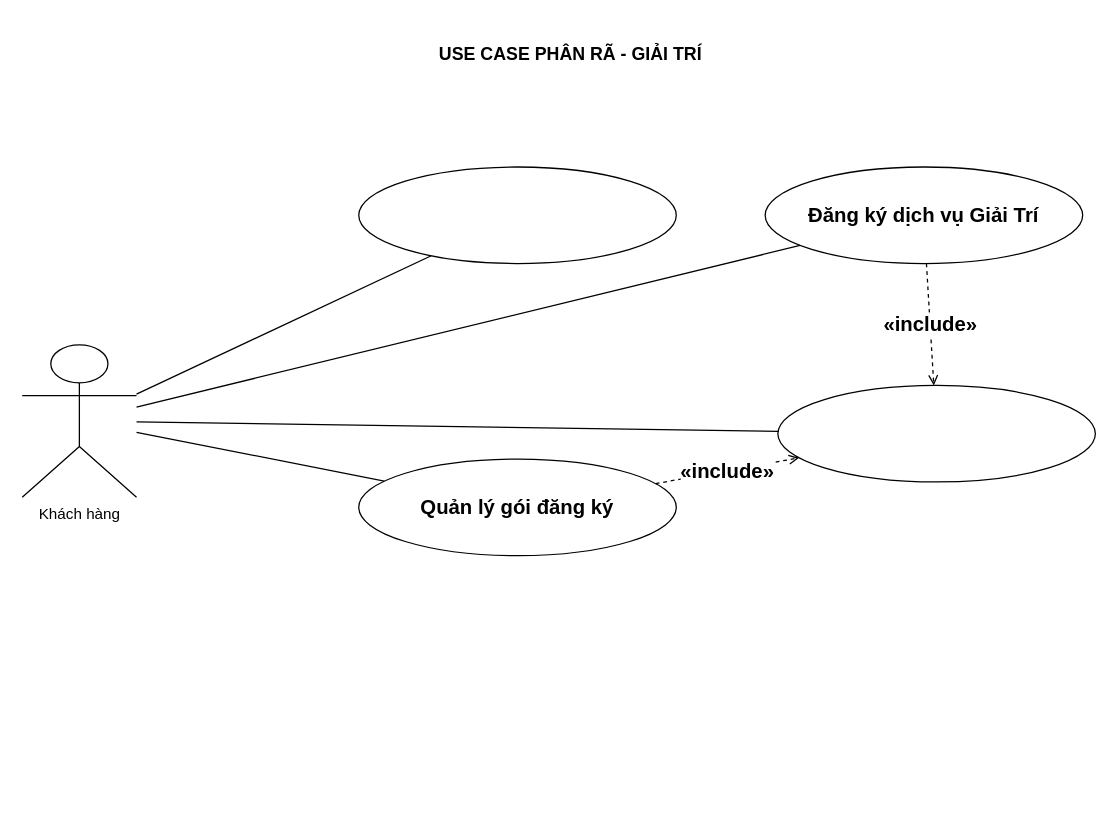
This 1118x831 diagram has some shape labels left out. The centre of each missing label's shape, as x and y in pixels:
"Xem dịch vụ Giải Trí" belongs at point 517,215.
"Đăng nhập Apple Store" belongs at point 936,433.
